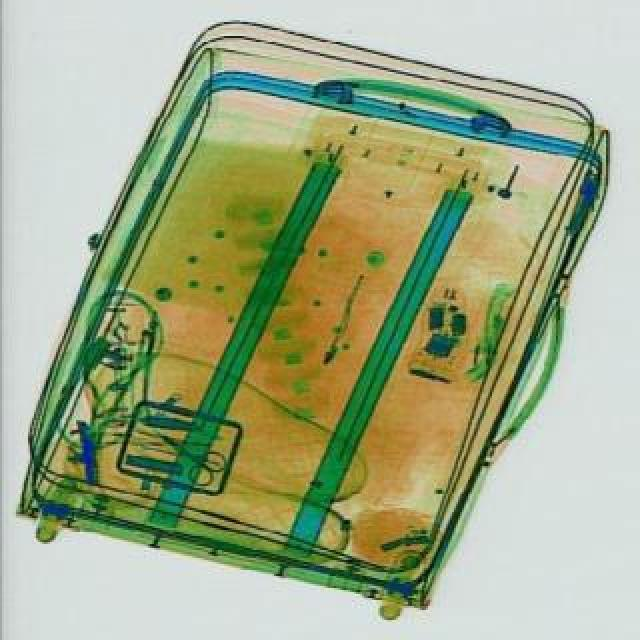pliers: (138, 416, 228, 490)
